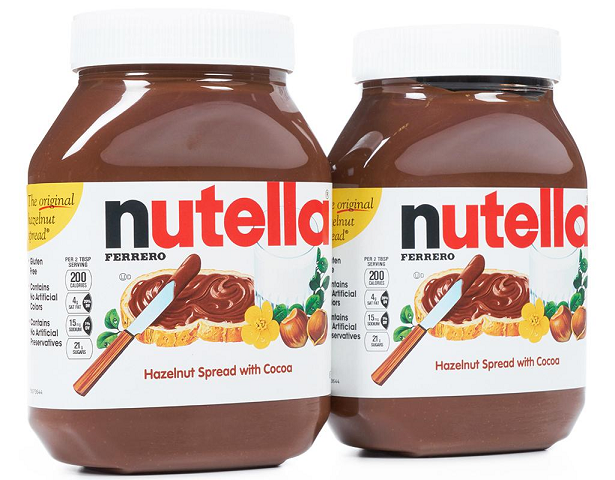nutella: (26, 8, 331, 475), (331, 23, 590, 457)
